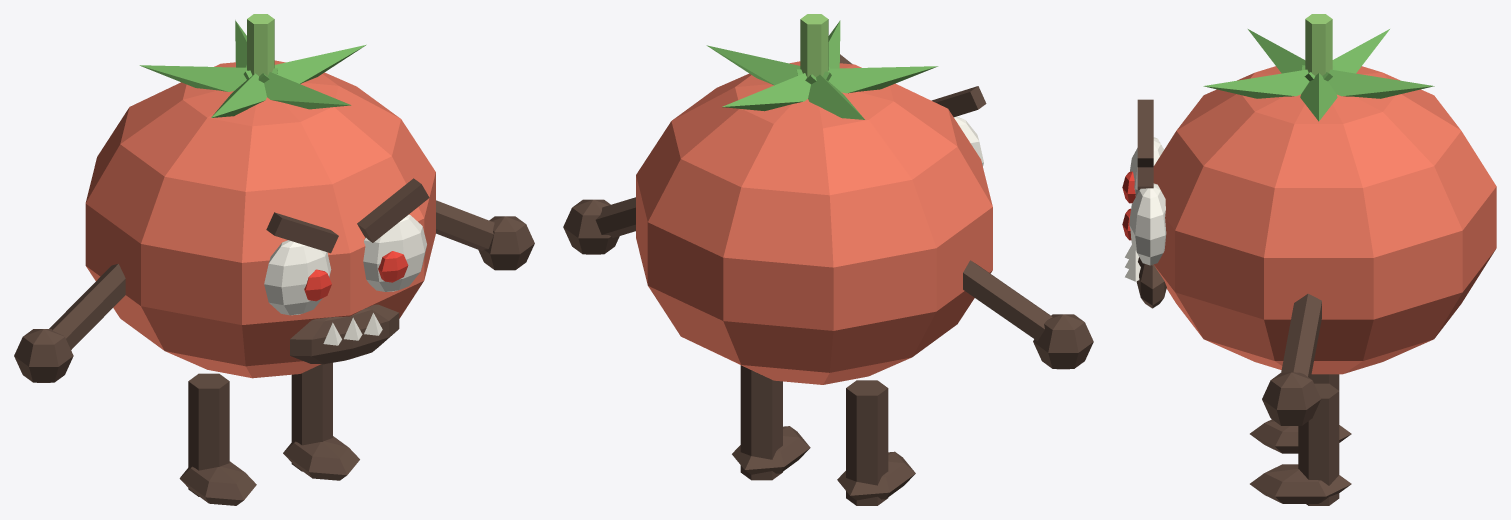
The model's file is MiniTomato.fbx.
3 views of the same model, side by side, from view 1: azimuth 30°, elevation 25°; view 2: azimuth 150°, elevation 25°; view 3: azimuth 270°, elevation 25° (orthographic). The views are drawn at different scales.
Visible parts, largest first — view 1: MiniTomato; view 2: MiniTomato; view 3: MiniTomato.
Boxes of the visible parts, x1,y1,x2,y2 form: MiniTomato: [14, 14, 534, 505]; MiniTomato: [563, 14, 1093, 505]; MiniTomato: [1122, 14, 1496, 505].
Bounding box in the file's own units: 1.27 × 1.1 × 0.8212.
